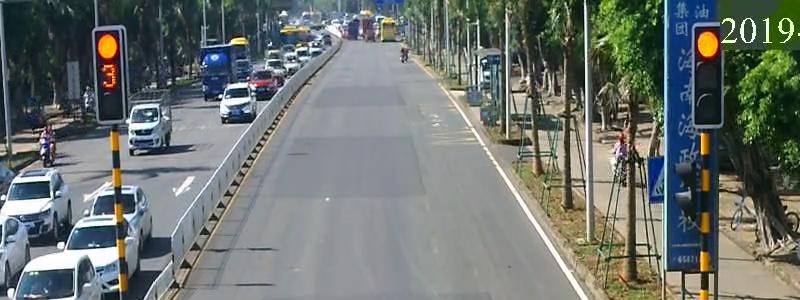red: (89, 26, 132, 61), (689, 27, 728, 59)
redtime: (88, 62, 138, 90)
